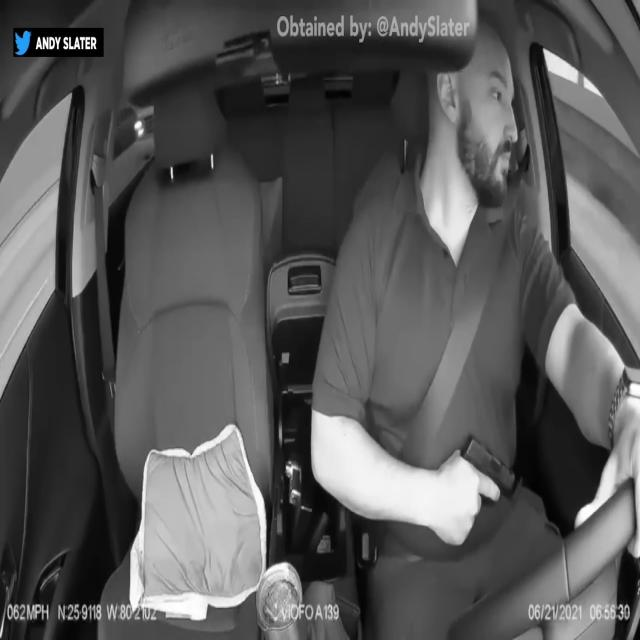senjata_api: (461, 433, 516, 507)
